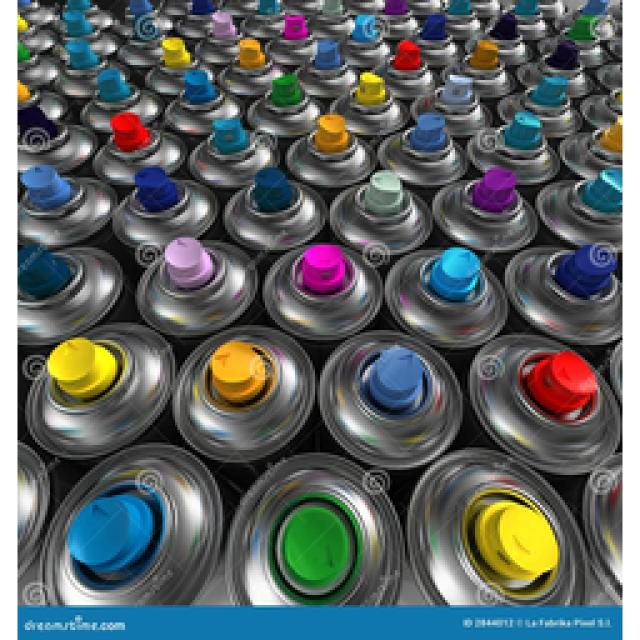B3: (37, 444, 219, 604), (410, 452, 589, 604), (226, 452, 407, 602), (470, 335, 619, 475), (24, 321, 173, 455), (320, 332, 464, 470), (170, 326, 314, 462), (134, 235, 262, 342), (385, 245, 510, 351), (264, 240, 386, 344), (505, 243, 621, 346), (18, 240, 126, 346), (431, 169, 541, 256), (109, 168, 218, 254), (222, 167, 328, 255), (328, 172, 434, 259), (18, 165, 116, 250), (283, 114, 378, 190), (92, 113, 188, 188), (187, 118, 282, 192), (536, 170, 623, 250), (465, 113, 559, 186), (378, 115, 470, 189), (15, 94, 94, 175), (327, 77, 409, 142), (161, 76, 244, 140), (81, 71, 162, 136), (244, 75, 324, 140), (414, 78, 492, 139), (505, 78, 583, 137), (559, 119, 623, 182), (142, 42, 211, 99), (292, 44, 358, 103), (218, 44, 286, 100), (114, 7, 174, 70), (56, 42, 120, 101), (448, 47, 514, 103), (527, 41, 591, 95), (551, 13, 610, 70), (377, 47, 437, 103), (192, 15, 250, 70), (473, 12, 531, 67), (264, 16, 321, 70), (337, 18, 391, 71), (410, 14, 462, 69), (57, 4, 114, 49), (239, 1, 291, 41), (17, 49, 65, 92), (171, 0, 222, 40), (304, 2, 357, 40), (501, 1, 550, 42), (372, 0, 422, 39), (439, 0, 485, 38), (17, 18, 60, 58), (120, 0, 167, 32), (18, 0, 61, 31)
